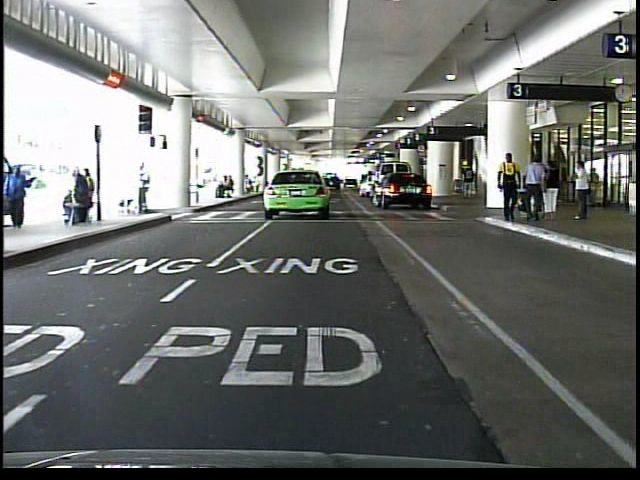person: (492, 150, 523, 228), (10, 162, 43, 227), (567, 157, 597, 228), (126, 159, 156, 223), (522, 150, 544, 226), (543, 158, 559, 225), (459, 160, 480, 204)
